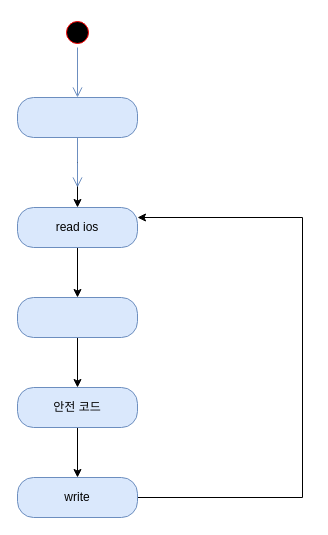
This 328x535 diagram has some shape labels left out. The shapes that lost their labels are listed below. From the top down, each one's centre as x and y in pixels, then its label:
At (x=77, y=117): "초기화".
At (x=77, y=317): "계산".
